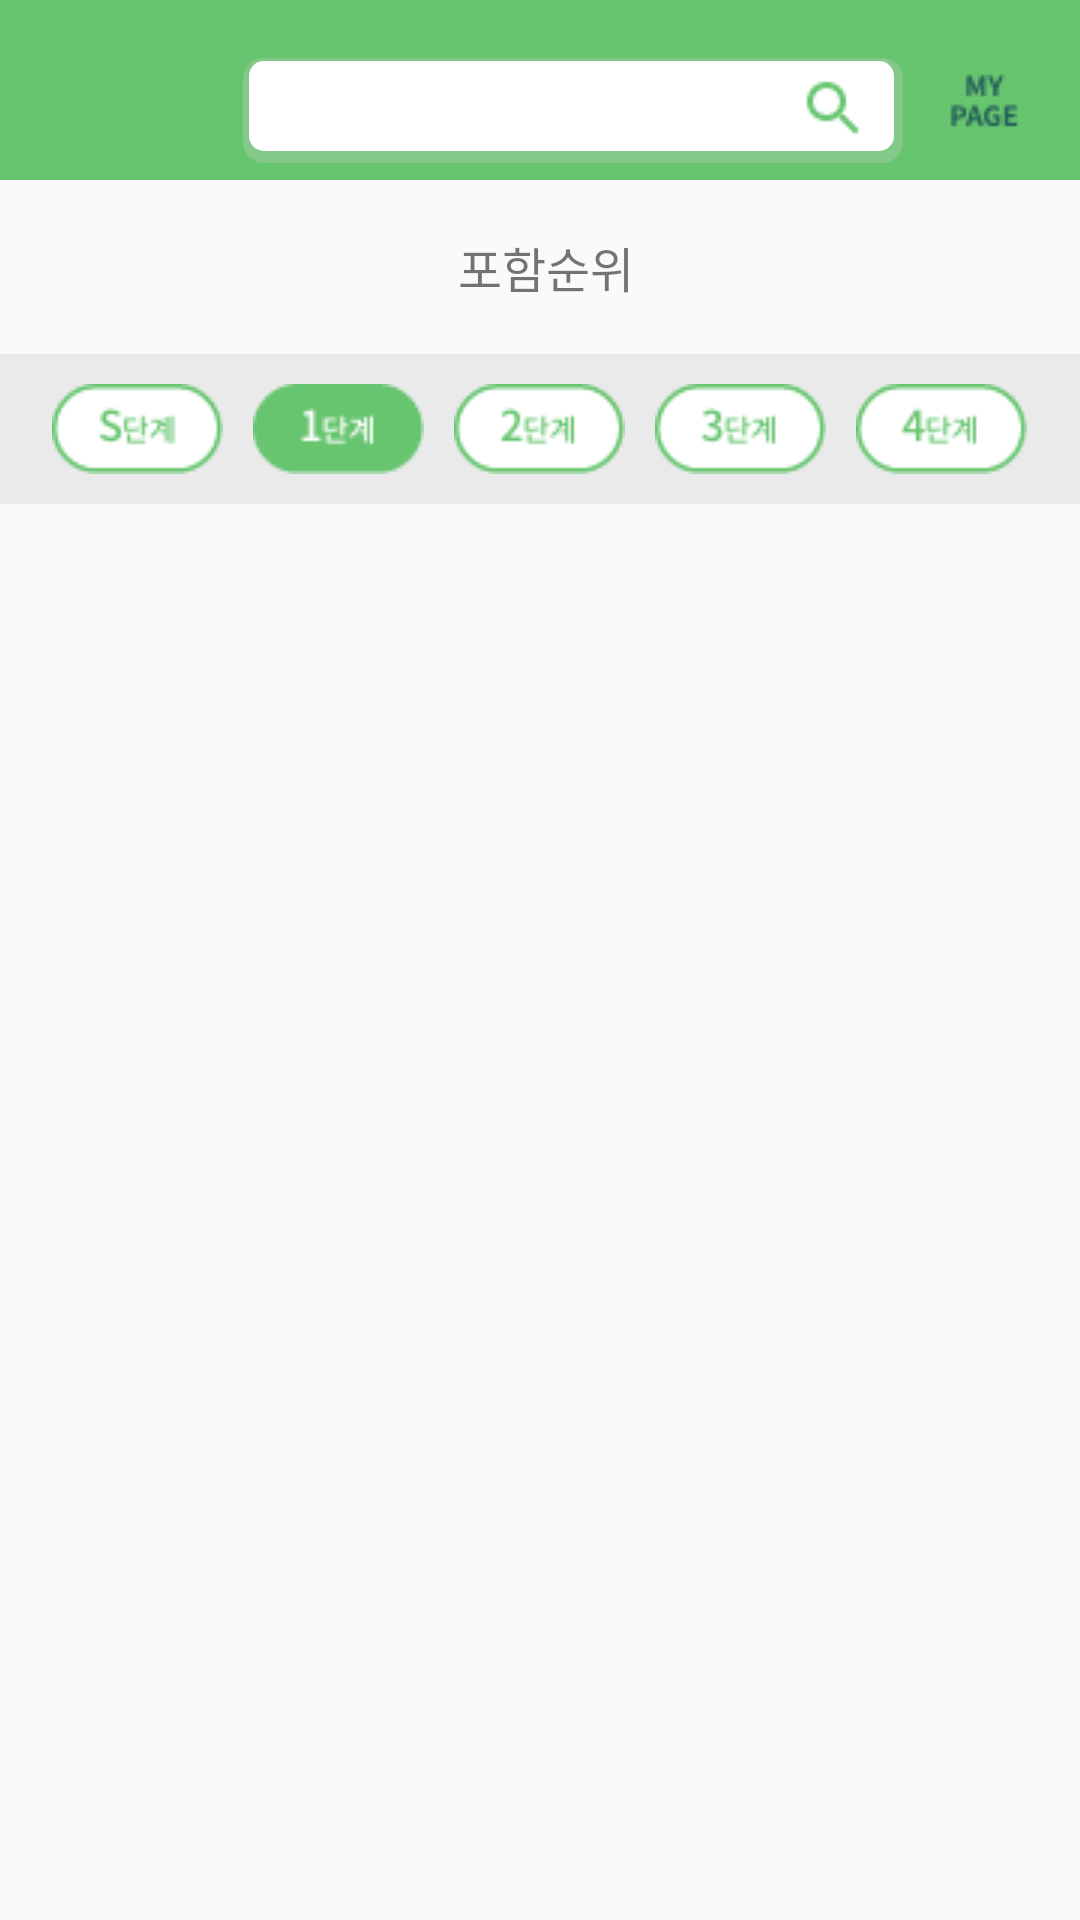

Named icons in this screenshot (1080 × 1920) and their bounding boxes, (x1, y1, x2, y2):
home search: (806, 81, 859, 134)
